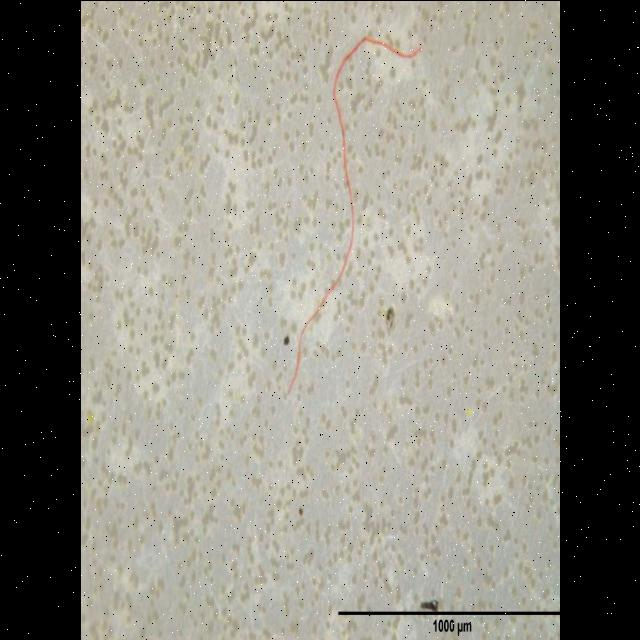Fibre: (286, 33, 422, 394)
